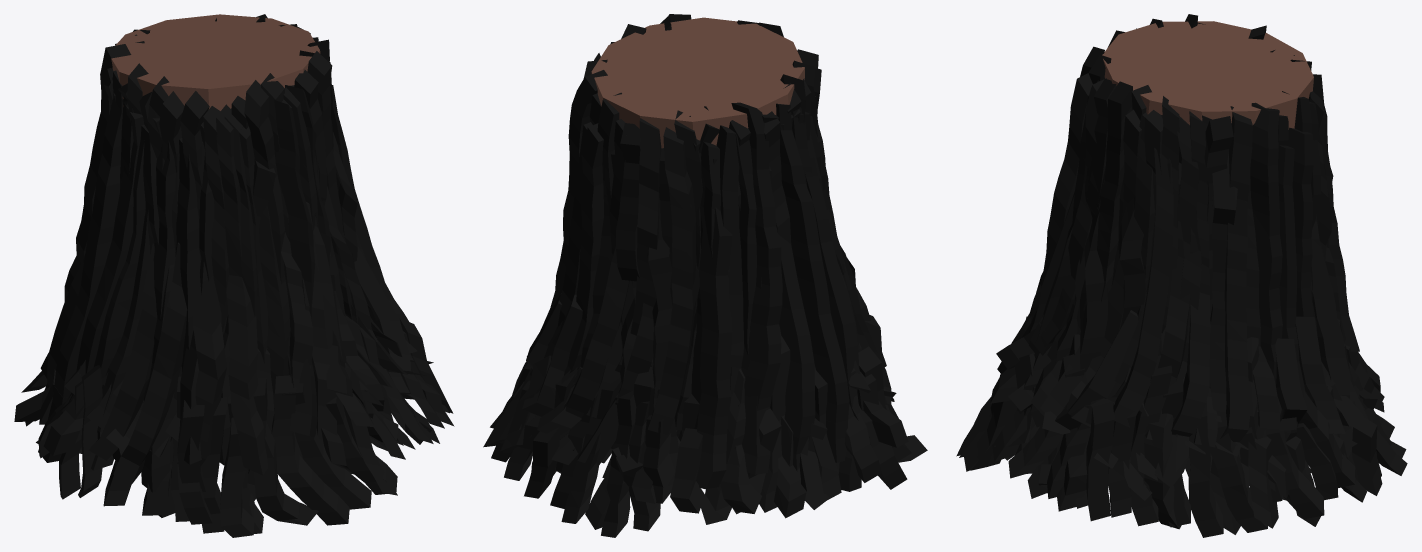
The model's file is desktree.glb.
3 views of the same model, side by side, from view 1: azimuth 30°, elevation 25°; view 2: azimuth 150°, elevation 25°; view 3: azimuth 270°, elevation 25° (orthographic).
Visible parts, largest first — view 1: node_MeshObject868424704-PolyPaper23, node_MeshObject296345600-PolyPaper20, node_MeshObject1440503808-PolyPaper23; view 2: node_MeshObject868424704-PolyPaper23, node_MeshObject296345600-PolyPaper20, node_MeshObject1440503808-PolyPaper23; view 3: node_MeshObject296345600-PolyPaper20, node_MeshObject1440503808-PolyPaper23, node_MeshObject868424704-PolyPaper23.
Part boxes in pixels (x1,y1,x2,y2): node_MeshObject868424704-PolyPaper23: [14, 25, 433, 537]; node_MeshObject296345600-PolyPaper20: [64, 14, 417, 457]; node_MeshObject1440503808-PolyPaper23: [321, 132, 454, 495]; node_MeshObject868424704-PolyPaper23: [519, 53, 927, 524]; node_MeshObject296345600-PolyPaper20: [522, 14, 896, 466]; node_MeshObject1440503808-PolyPaper23: [483, 355, 675, 537]; node_MeshObject296345600-PolyPaper20: [996, 14, 1368, 447]; node_MeshObject1440503808-PolyPaper23: [964, 115, 1407, 537]; node_MeshObject868424704-PolyPaper23: [956, 23, 1384, 500].
Size of the model in its own units: 0.2829 by 0.2973 by 0.2956.
